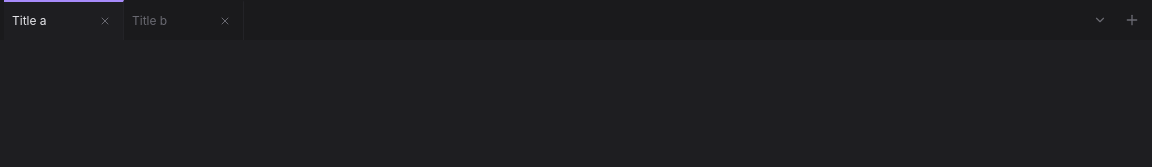
<TabStrip /> rendering › the active tab is marked in the always-visible dropdown menu
Step 1. Click the button named "Show all tabs" → (1100, 20), box [1088, 8, 1112, 32]
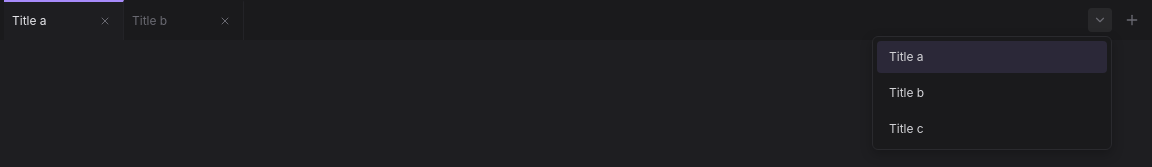
Check: the menu item with aria-label "Title a (active)" is shown, box [877, 41, 1107, 73]
